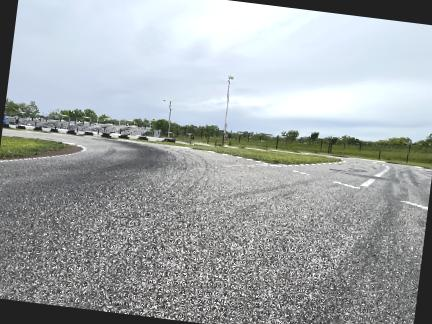Grass: (148, 142, 341, 165), (0, 136, 66, 158)
Lane: (0, 129, 431, 323)
